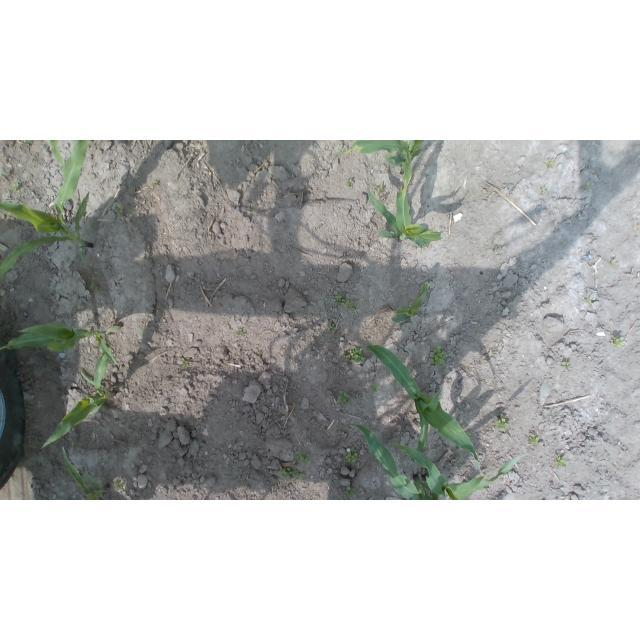Maize: (359, 343, 486, 475), (0, 141, 94, 276), (387, 440, 526, 500), (337, 423, 443, 500), (365, 148, 443, 248), (38, 344, 111, 448), (0, 323, 120, 365), (331, 140, 425, 176), (60, 445, 107, 500), (390, 281, 431, 323)
Weeds: (343, 346, 368, 363), (429, 346, 447, 366), (278, 466, 307, 478), (336, 390, 353, 406), (495, 416, 510, 432), (295, 450, 311, 464), (345, 449, 359, 464), (330, 294, 346, 307), (113, 477, 127, 491), (113, 201, 126, 216), (611, 335, 625, 348), (554, 455, 567, 467), (345, 486, 357, 498), (374, 183, 386, 195), (345, 301, 357, 312), (529, 434, 540, 446), (370, 383, 381, 393), (585, 294, 594, 306), (10, 183, 21, 192), (546, 159, 555, 170), (180, 357, 189, 367), (89, 283, 99, 291), (23, 141, 34, 148), (610, 259, 618, 268), (140, 325, 146, 337), (582, 182, 591, 190), (0, 170, 8, 178), (346, 178, 354, 186), (330, 324, 337, 333), (421, 242, 429, 249), (561, 362, 571, 367), (103, 475, 110, 482), (189, 419, 196, 426), (236, 329, 244, 335), (466, 432, 472, 440), (151, 181, 158, 187), (541, 188, 548, 193), (126, 308, 132, 313), (493, 247, 498, 252), (334, 380, 338, 383)
